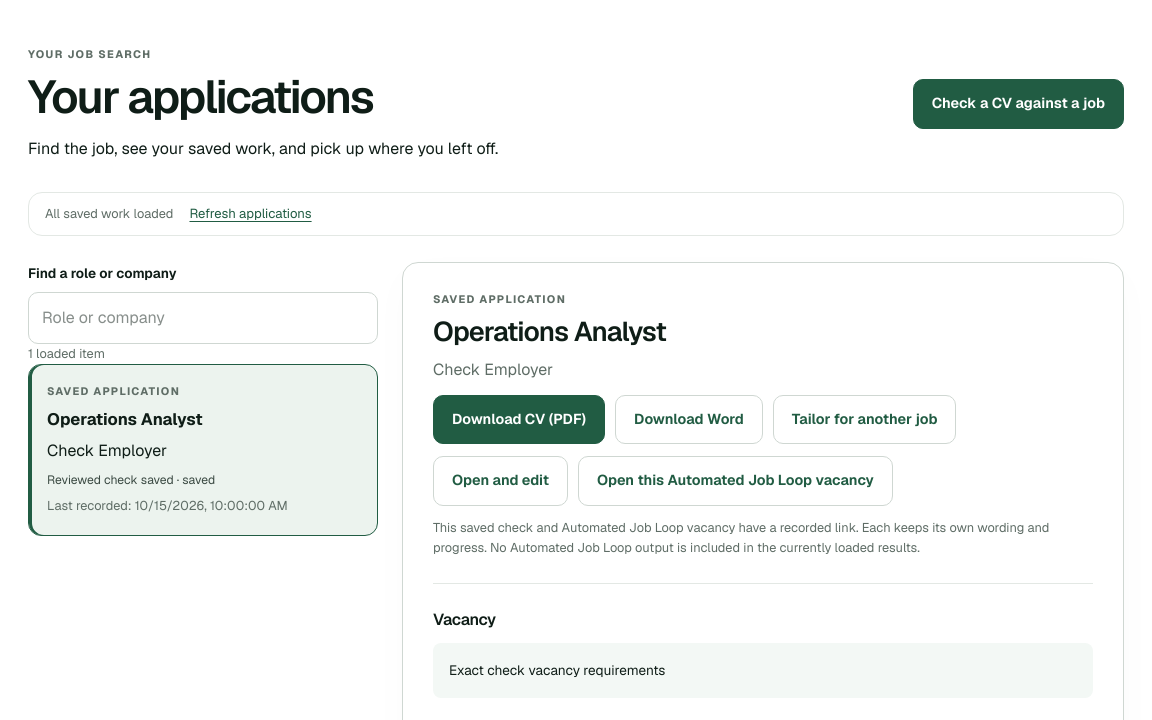
Test: Applications home actual saved work › keeps the exact selected vacancy through delayed check loading and later failed-source refresh
Check: the link "Open this Automated Job Loop vacancy" is shown, box 578,456 -> 893,506
Check: the text "All saved work loaded" is shown, box 45,204 -> 174,224
Click the button "Refresh applications".
click(251, 214)  # box 190,203 -> 312,225
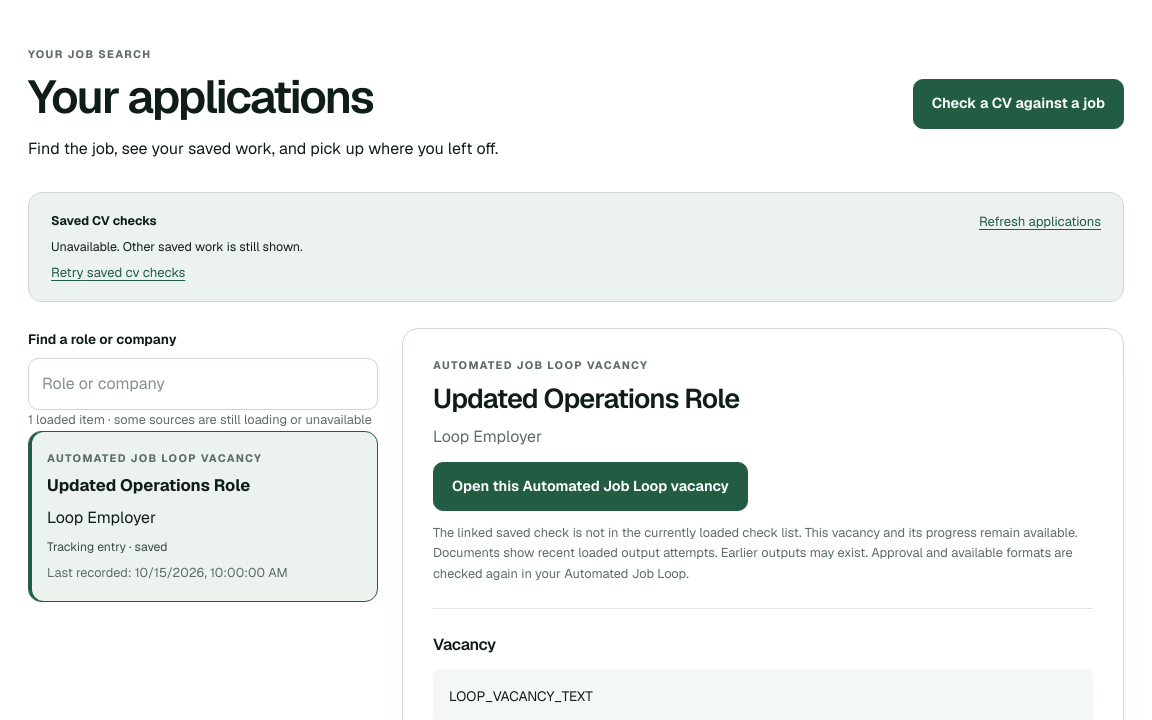
Check: the link "Open this Automated Job Loop vacancy" is shown, box 433,462 -> 748,511
Check: the button "Retry saved cv checks" is shown, box 51,262 -> 955,283
Check: the text "linked saved check is not in" is shown, box 433,524 -> 1078,582
